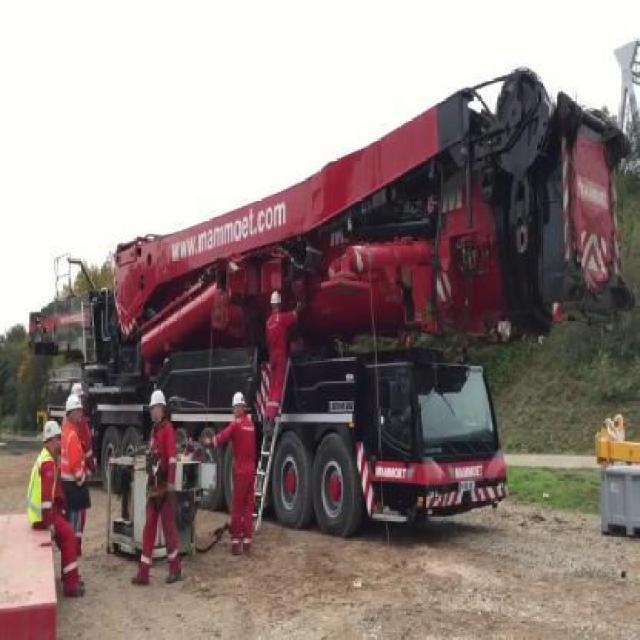Mobile Crane: (26, 65, 619, 541)
